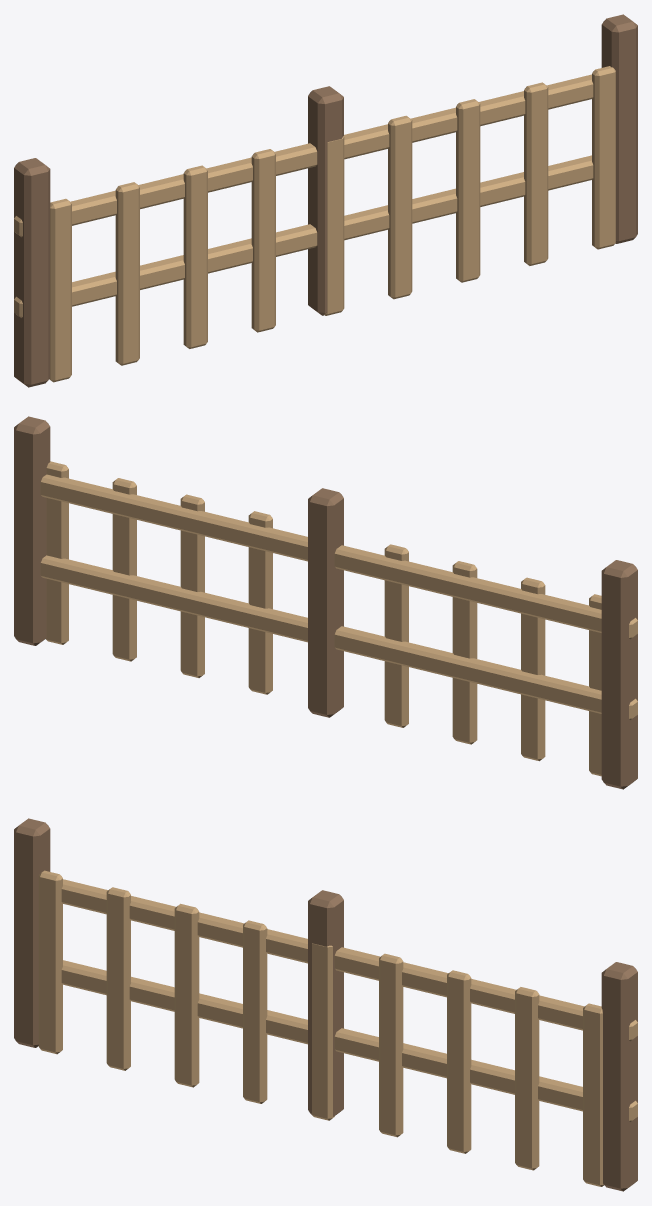
The model's file is ob_fence.glb.
3 views of the same model, one above another, from view 1: azimuth 30°, elevation 25°; view 2: azimuth 150°, elevation 25°; view 3: azimuth 330°, elevation 25° (orthographic).
Visible parts, largest first — view 1: fence-run_1, fence-run_0; view 2: fence-run_1, fence-run_0; view 3: fence-run_1, fence-run_0.
Part boxes in pixels (box(x1,y1,x2,y2)): fence-run_1: box(14, 66, 615, 382); fence-run_0: box(14, 14, 637, 387); fence-run_1: box(40, 461, 637, 776); fence-run_0: box(14, 416, 637, 789); fence-run_1: box(38, 870, 637, 1186); fence-run_0: box(14, 818, 637, 1191).
Size of the model in its own units: 4 by 1.35 by 0.1713.
